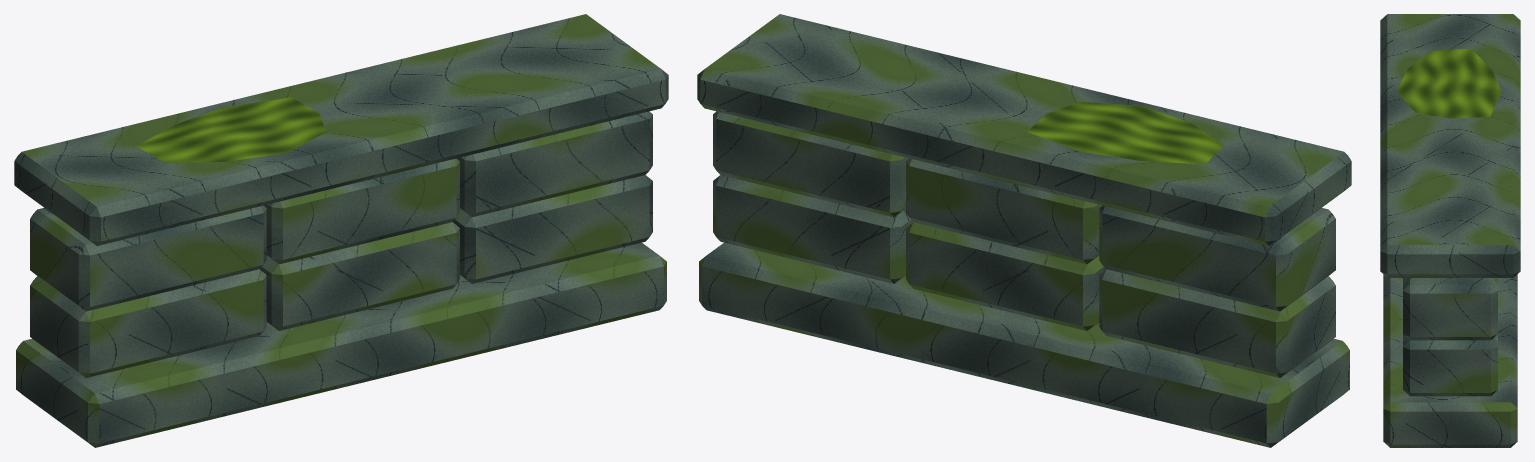
File: temple-parapet.glb
3 renders of one model, left to right at view 1: azimuth 30°, elevation 25°; view 2: azimuth 150°, elevation 25°; view 3: azimuth 270°, elevation 25°, orthographic. The views are drawn at different scales.
Parts seen in each view (by area): view 1: temple-parapet_kit-stone, temple-parapet_kit-moss; view 2: temple-parapet_kit-stone, temple-parapet_kit-moss; view 3: temple-parapet_kit-stone, temple-parapet_kit-moss.
Boxes of the visible parts, <box> form: temple-parapet_kit-stone: <box>14,14,668,447</box>; temple-parapet_kit-moss: <box>136,97,325,162</box>; temple-parapet_kit-stone: <box>697,14,1351,447</box>; temple-parapet_kit-moss: <box>1027,102,1223,164</box>; temple-parapet_kit-stone: <box>1380,14,1520,447</box>; temple-parapet_kit-moss: <box>1397,48,1501,118</box>.
Bounding box in the file's own units: 2 × 0.815 × 0.5.
Materials: 2 (2 with a texture image).
